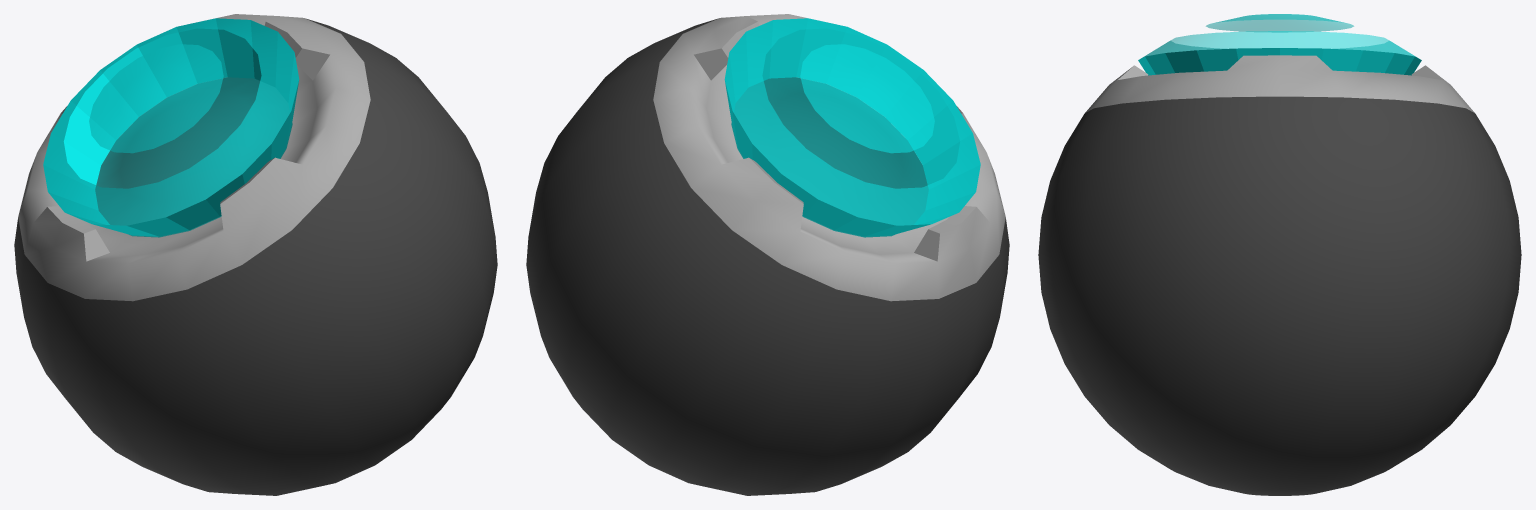
The model's file is Eyeball Test.fbx.
The picture shows the model from 3 angles, left to right: view 1: azimuth 30°, elevation 25°; view 2: azimuth 150°, elevation 25°; view 3: azimuth 270°, elevation 25°; orthographic projection.
Visible parts, largest first — view 1: pSphere1, pSphere2; view 2: pSphere1, pSphere2; view 3: pSphere1, pSphere2.
Boxes of the visible parts, x1,y1,x2,y2 form: pSphere1: [14, 14, 497, 495]; pSphere2: [43, 18, 299, 236]; pSphere1: [526, 14, 1009, 495]; pSphere2: [724, 18, 980, 236]; pSphere1: [1038, 55, 1521, 495]; pSphere2: [1138, 14, 1421, 75].
Bounding box in the file's own units: 2 × 2 × 2.
